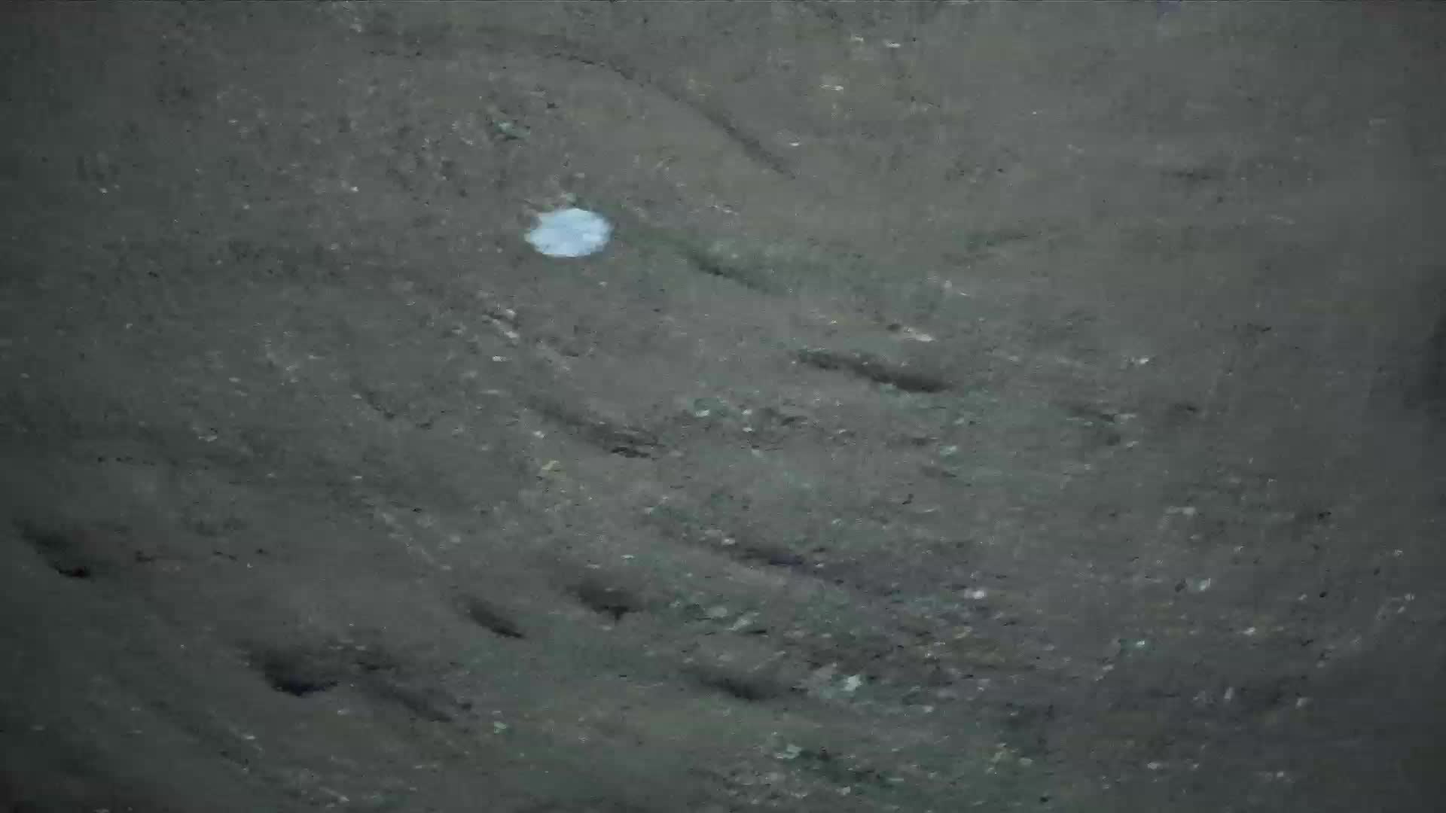Target: (518, 196, 616, 262)
